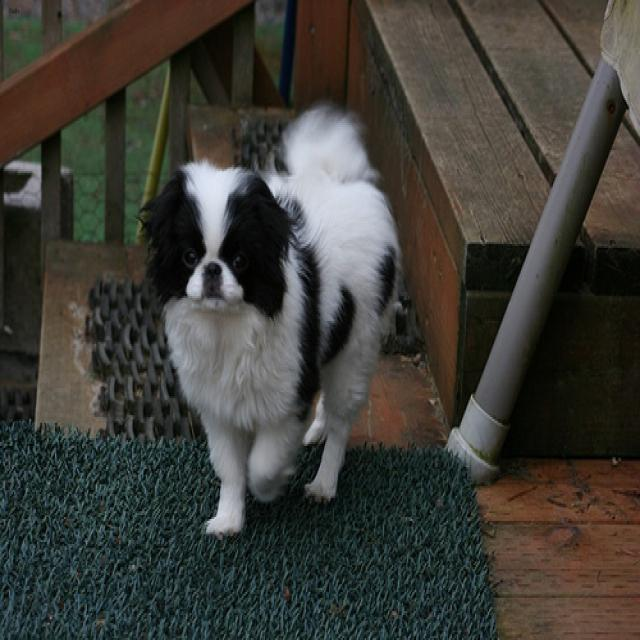dog-japanese_chin: (131, 94, 410, 554)
